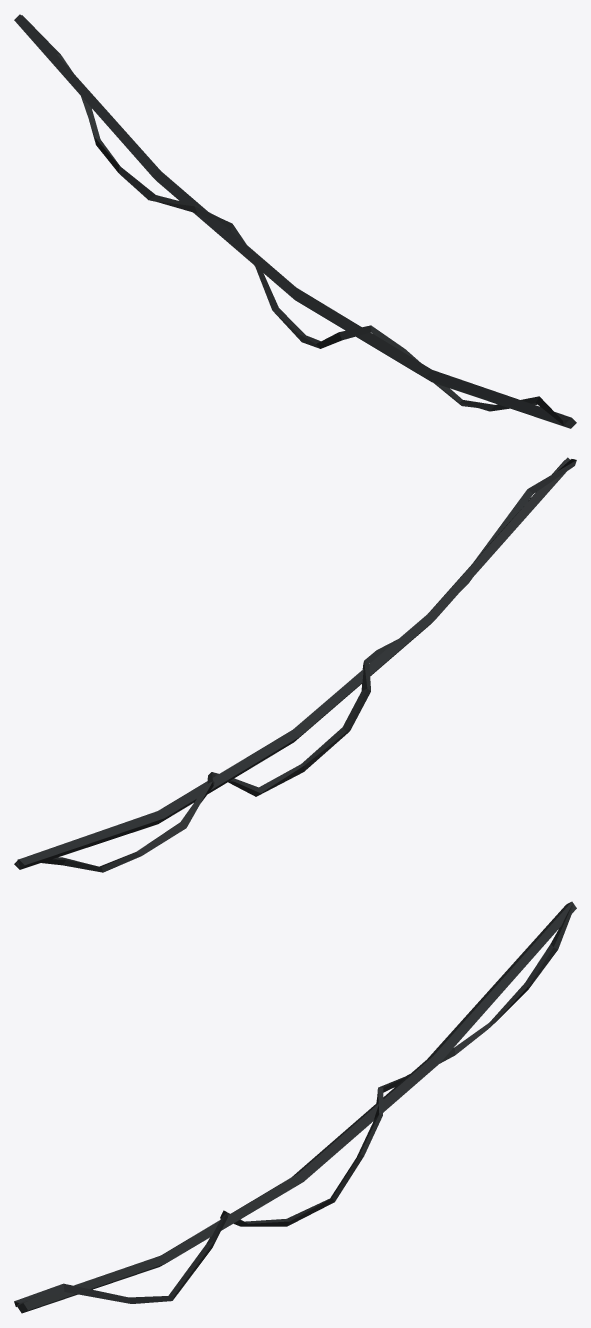
File: SM_Prop_Powerline_05.glb
3 views of the same model, one above another, from view 1: azimuth 30°, elevation 25°; view 2: azimuth 150°, elevation 25°; view 3: azimuth 330°, elevation 25° (orthographic).
Visible parts, largest first — view 1: SM_Prop_Powerline_05; view 2: SM_Prop_Powerline_05; view 3: SM_Prop_Powerline_05.
Part boxes in pixels (<box>): SM_Prop_Powerline_05: <box>14,14,576,428</box>; SM_Prop_Powerline_05: <box>14,457,576,872</box>; SM_Prop_Powerline_05: <box>14,901,576,1313</box>.
Bounding box in the file's own units: 0.3365 × 0.9278 × 7.75.
Materials: 1 (1 with a texture image).
